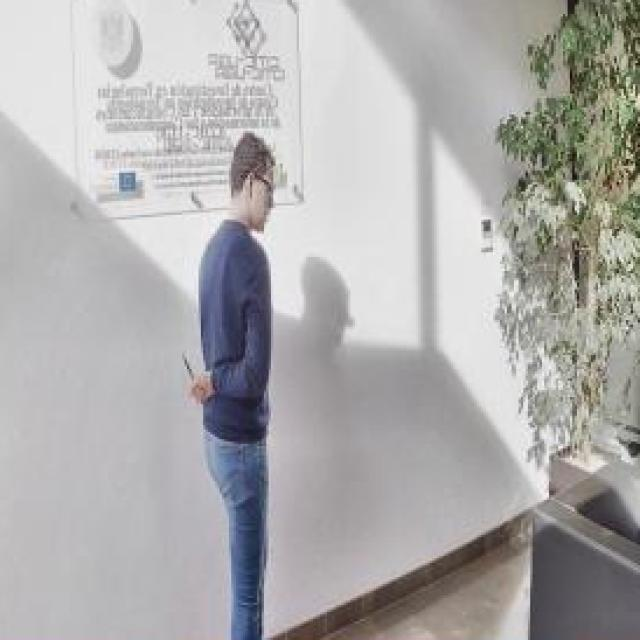knife: (178, 346, 203, 408)
